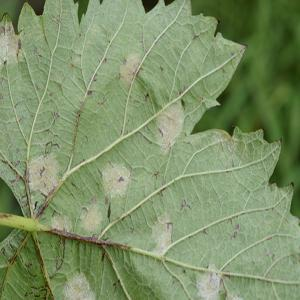Folha: (0, 0, 299, 299)
Fungo: (50, 228, 129, 254), (24, 153, 62, 198), (154, 100, 185, 152), (101, 160, 132, 199), (0, 22, 22, 69), (195, 263, 222, 299), (61, 272, 95, 300), (152, 213, 173, 257), (118, 52, 142, 89), (80, 202, 102, 232), (214, 125, 238, 152), (48, 212, 72, 234), (226, 214, 240, 241), (178, 86, 186, 110), (225, 289, 240, 300), (180, 199, 191, 213), (38, 165, 45, 179), (34, 46, 42, 57), (199, 94, 205, 104), (69, 56, 74, 68), (117, 175, 124, 183), (154, 169, 159, 180), (144, 92, 149, 102), (93, 73, 97, 81)
